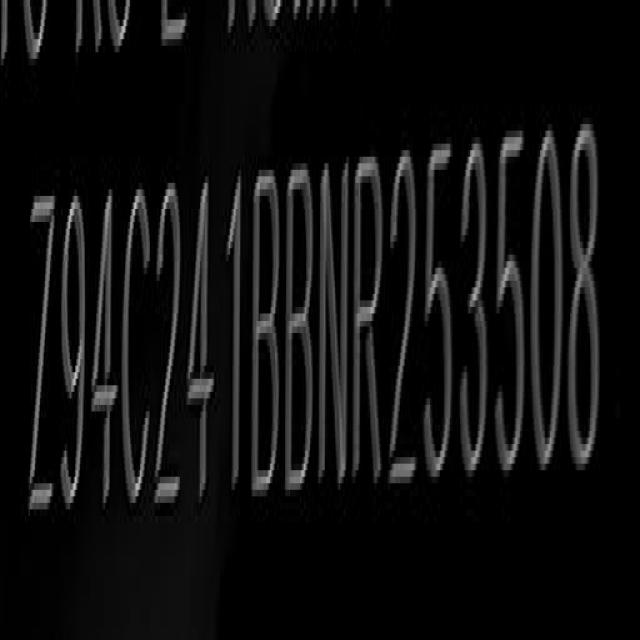0: (534, 122, 566, 475)
1: (224, 169, 246, 512)
2: (390, 143, 422, 495), (156, 176, 188, 518)
3: (462, 138, 491, 485)
4: (90, 180, 124, 520), (188, 177, 218, 518)
5: (496, 124, 527, 477), (426, 136, 454, 488)
8: (570, 119, 603, 473)
9: (56, 189, 87, 525)
B: (251, 168, 283, 508), (288, 162, 318, 505)
C: (123, 183, 159, 520)
N: (318, 157, 349, 498)
R: (352, 154, 386, 495)
Z: (24, 192, 58, 537)
